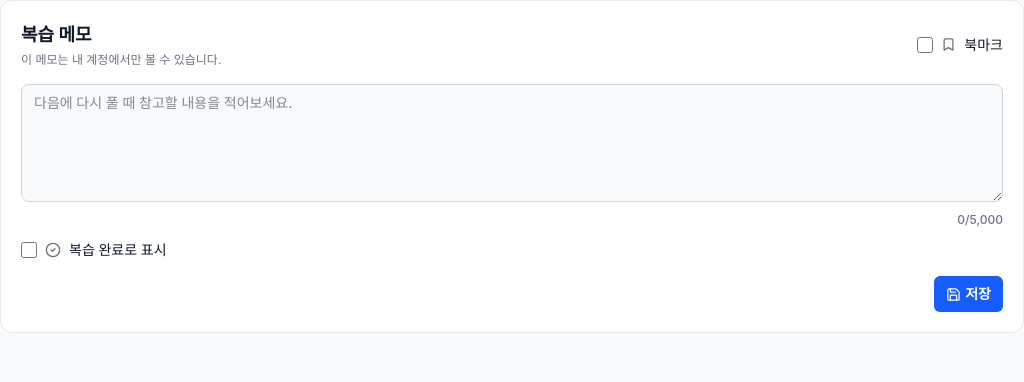
Test: ProblemReviewControls › reports a successful save so a containing review list can refresh
The image size is (1024, 382).
Expected: the text box named "개인 메모" is shown, [21,84,1003,202]
Click the checkbox labelled "북마크" at (925, 44), box [917,36,933,52]
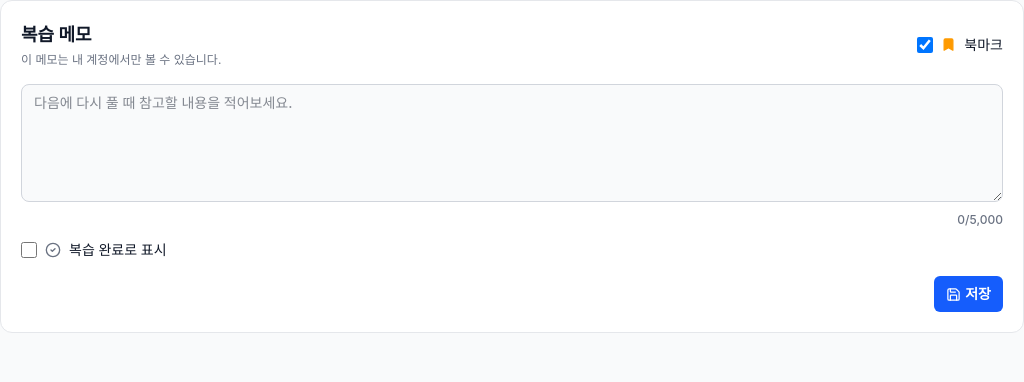
Click the button "저장" at (969, 294), box [934,276,1003,312]
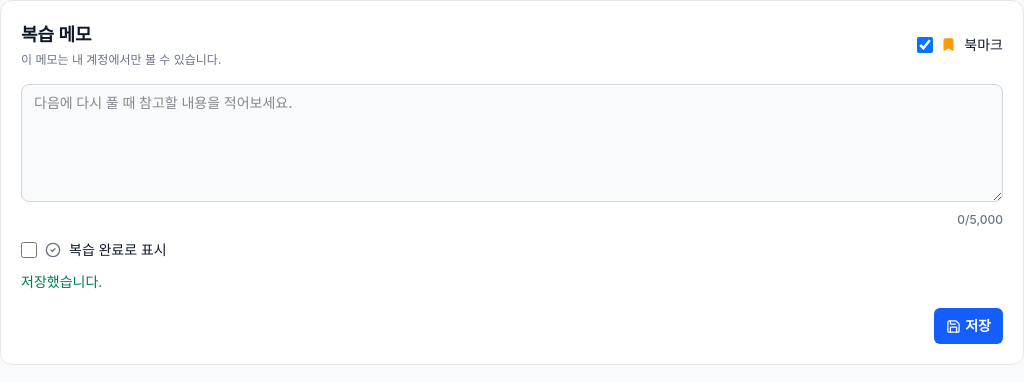
Expected: the text "저장했습니다." is shown, [21,273,102,290]
